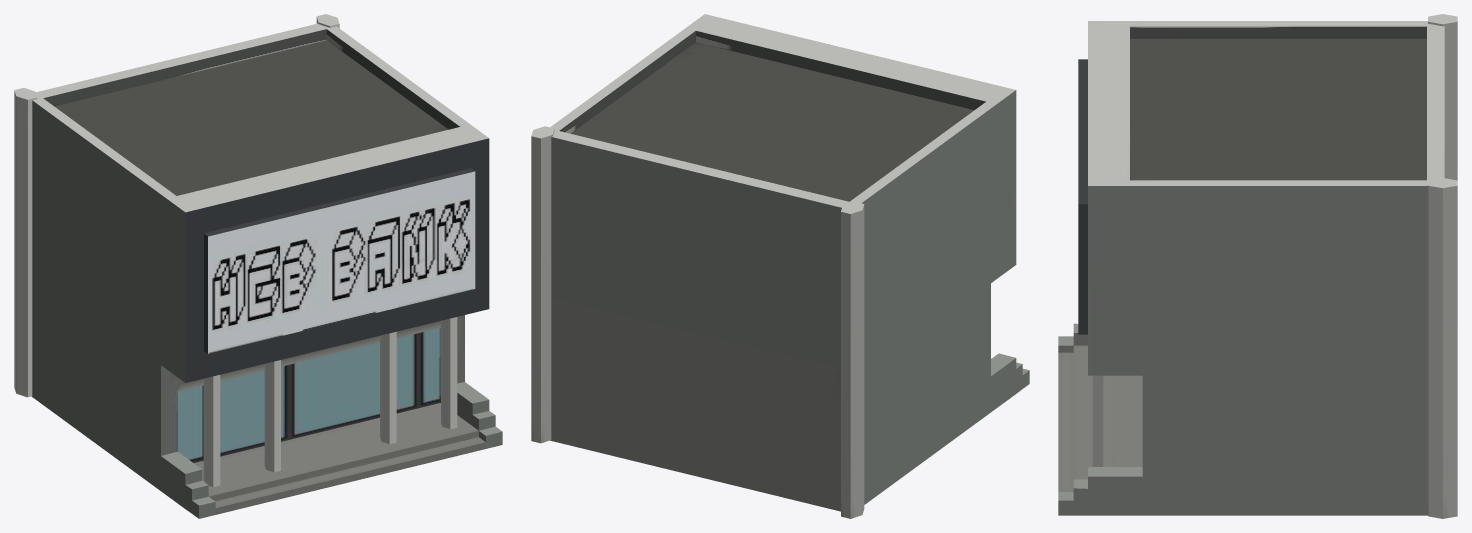
The model's file is Bank.glb.
3 renders of one model, left to right at view 1: azimuth 30°, elevation 25°; view 2: azimuth 150°, elevation 25°; view 3: azimuth 270°, elevation 25°, orthographic. The views are drawn at different scales.
Visible parts, largest first — view 1: Bank; view 2: Bank; view 3: Bank.
Boxes of the visible parts, box(x1,y1,x2,y2) form: Bank: box(14, 14, 502, 518); Bank: box(531, 14, 1029, 518); Bank: box(1058, 14, 1457, 518).
Size of the model in its own units: 1.06 by 0.9385 by 1.02.
Materials: 1 (1 with a texture image).
